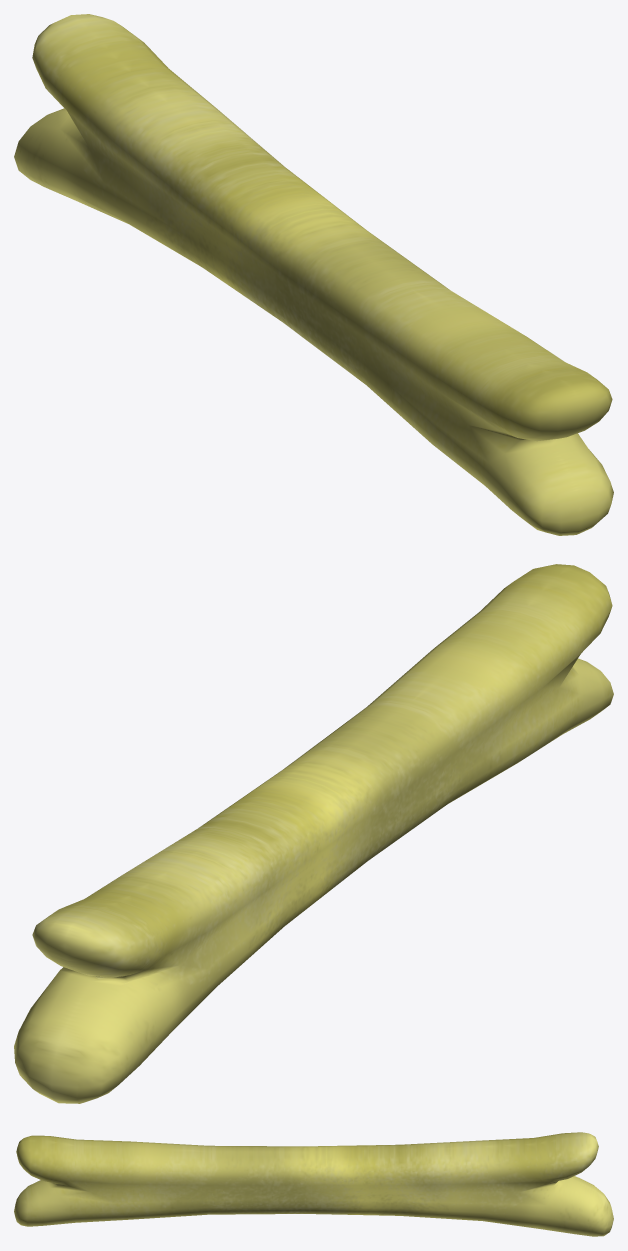
File: bone.fbx
3 renders of one model, top to bottom at view 1: azimuth 30°, elevation 25°; view 2: azimuth 150°, elevation 25°; view 3: azimuth 270°, elevation 25°, orthographic. The views are drawn at different scales.
Parts seen in each view (by area): view 1: pCube1; view 2: pCube1; view 3: pCube1.
Part boxes in pixels (<box>): pCube1: <box>14,14,613,535</box>; pCube1: <box>14,564,613,1103</box>; pCube1: <box>14,1132,613,1236</box>.
Bounding box in the file's own units: 0.8698 × 1.22 × 6.95.
1 material, 1 textured.
